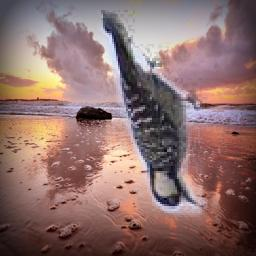Woodpecker: (92, 4, 208, 221)
